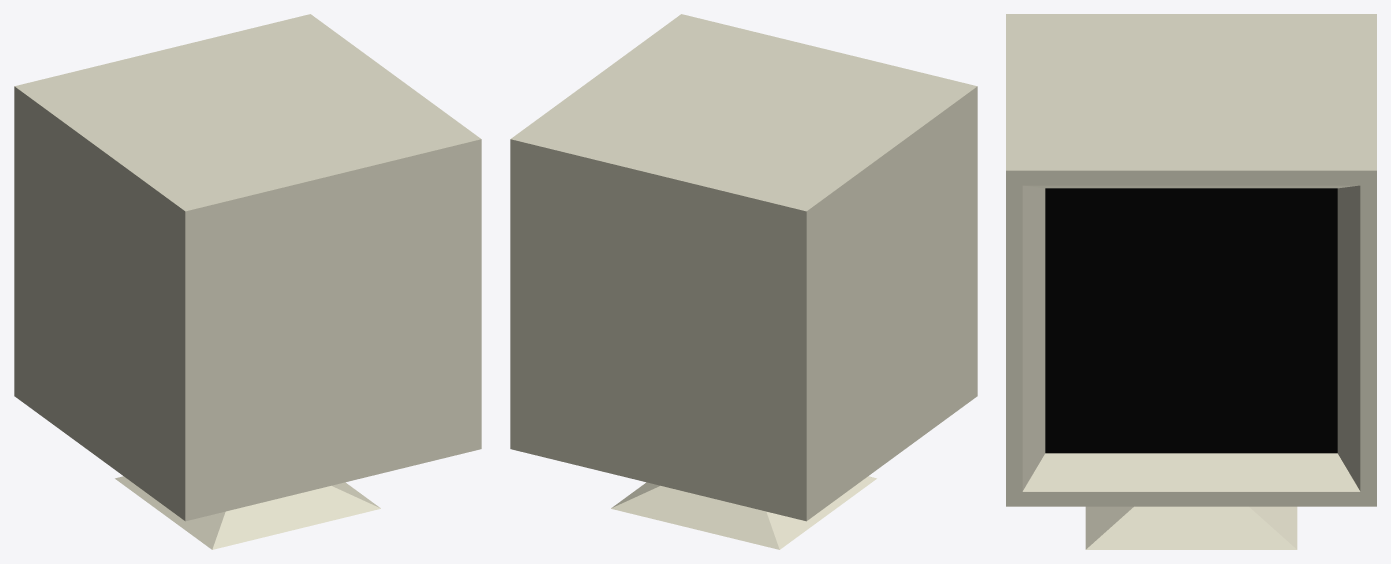
Rendered from monitor.glb.
The picture shows the model from 3 angles, left to right: view 1: azimuth 30°, elevation 25°; view 2: azimuth 150°, elevation 25°; view 3: azimuth 270°, elevation 25°; orthographic projection. The views are drawn at different scales.
Parts seen in each view (by area): view 1: Cube; view 2: Cube; view 3: Cube.
Part boxes in pixels (x1=…): Cube: x1=14, y1=14, x2=481, y2=549; Cube: x1=510, y1=14, x2=977, y2=549; Cube: x1=1006, y1=14, x2=1376, y2=549.
Bounding box in the file's own units: 2 × 2.46 × 2.
